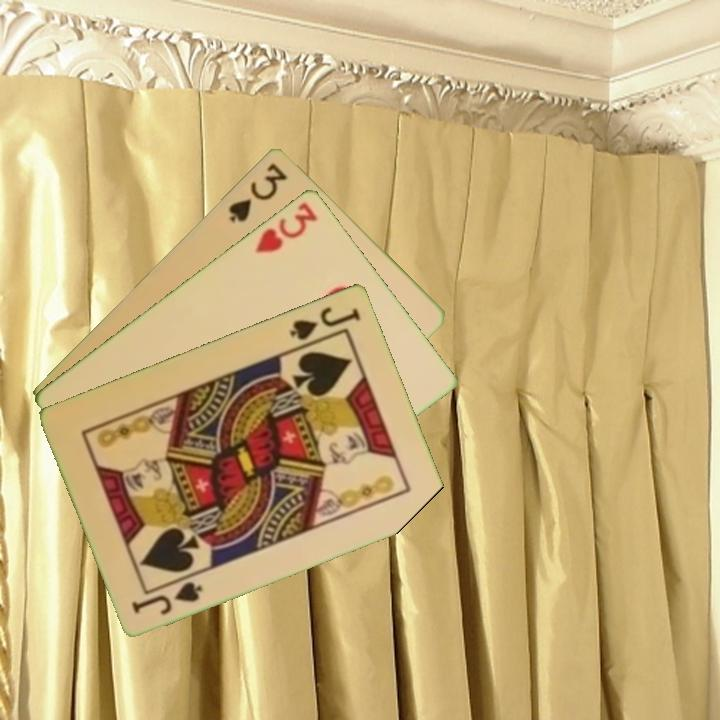3h: (251, 198, 321, 256)
3s: (225, 158, 291, 225)
Js: (286, 302, 364, 343), (128, 577, 206, 618)
